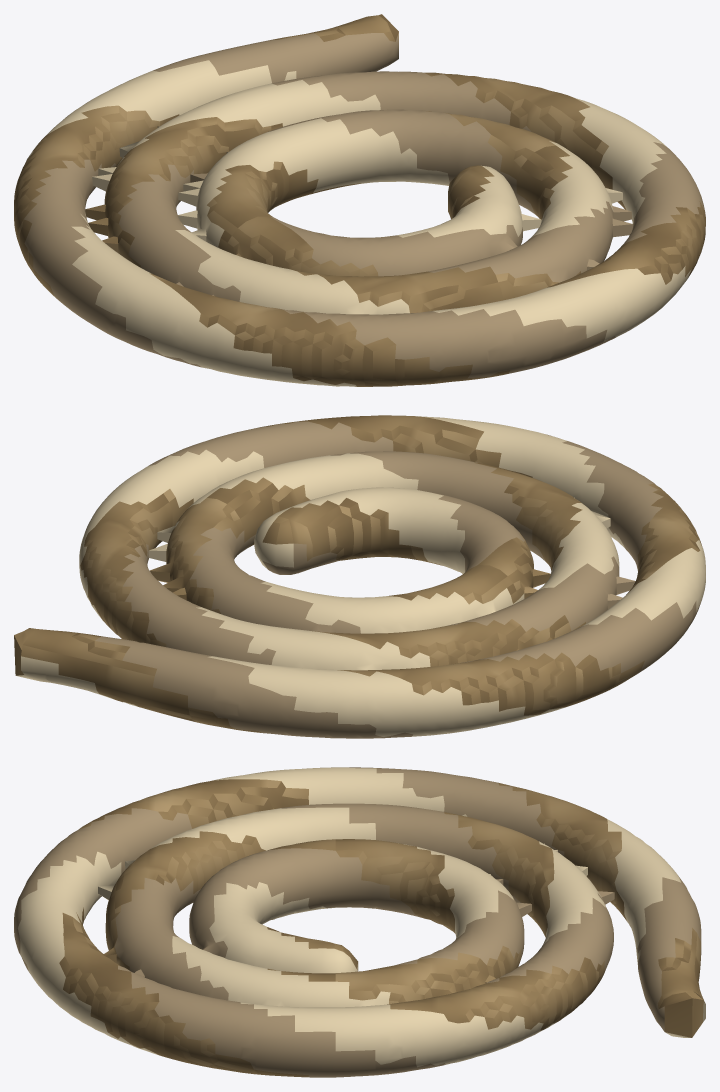
File: prop_rope.glb
The picture shows the model from 3 angles, top to bottom: view 1: azimuth 30°, elevation 25°; view 2: azimuth 150°, elevation 25°; view 3: azimuth 270°, elevation 25°; orthographic projection. The views are drawn at different scales.
Parts seen in each view (by area): view 1: wilds_prop_rope; view 2: wilds_prop_rope; view 3: wilds_prop_rope.
Part boxes in pixels (x1,y1,x2,y2): wilds_prop_rope: [14, 14, 705, 386]; wilds_prop_rope: [14, 415, 705, 738]; wilds_prop_rope: [14, 767, 705, 1077].
Bounding box in the file's own units: 0.3662 × 0.0401 × 0.3972.
3 materials, 1 textured.
